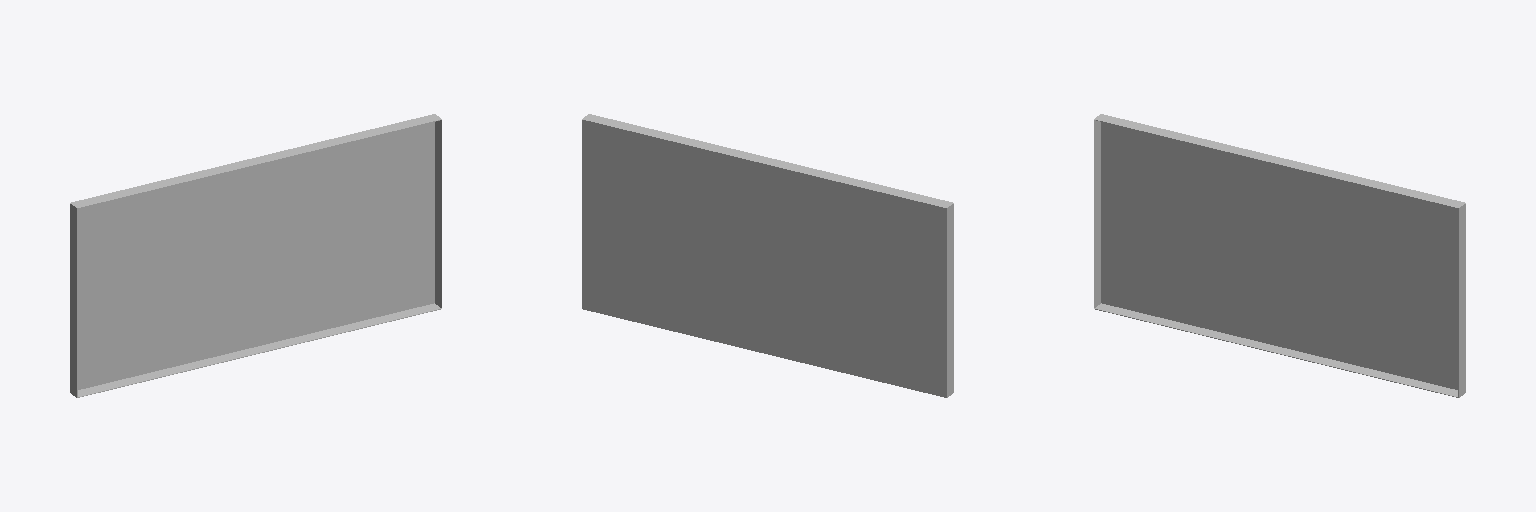
File: eske_plastikk_topp.obj
The picture shows the model from 3 angles: view 1: azimuth 30°, elevation 25°; view 2: azimuth 150°, elevation 25°; view 3: azimuth 330°, elevation 25°; orthographic projection.
Parts seen in each view (by area): view 1: 7, 3, 5, 6, 11, 4; view 2: 3, 1, 5, 4, 6; view 3: 7, 3, 5, 9, 11, 1.
Boxes of the visible parts, <box> form: 7: <box>78,120,441,396</box>; 3: <box>75,114,441,201</box>; 5: <box>70,120,437,207</box>; 6: <box>70,225,76,397</box>; 11: <box>77,120,440,397</box>; 4: <box>70,204,76,371</box>; 3: <box>582,114,946,397</box>; 1: <box>582,120,945,397</box>; 5: <box>599,116,953,207</box>; 4: <box>947,204,953,379</box>; 6: <box>947,225,953,397</box>; 7: <box>1094,122,1457,396</box>; 3: <box>1111,116,1465,379</box>; 5: <box>1094,114,1451,206</box>; 9: <box>1094,120,1100,301</box>; 11: <box>1095,120,1458,397</box>; 1: <box>1459,225,1465,397</box>.
Size of the model in its own units: 586 by 291 by 21.